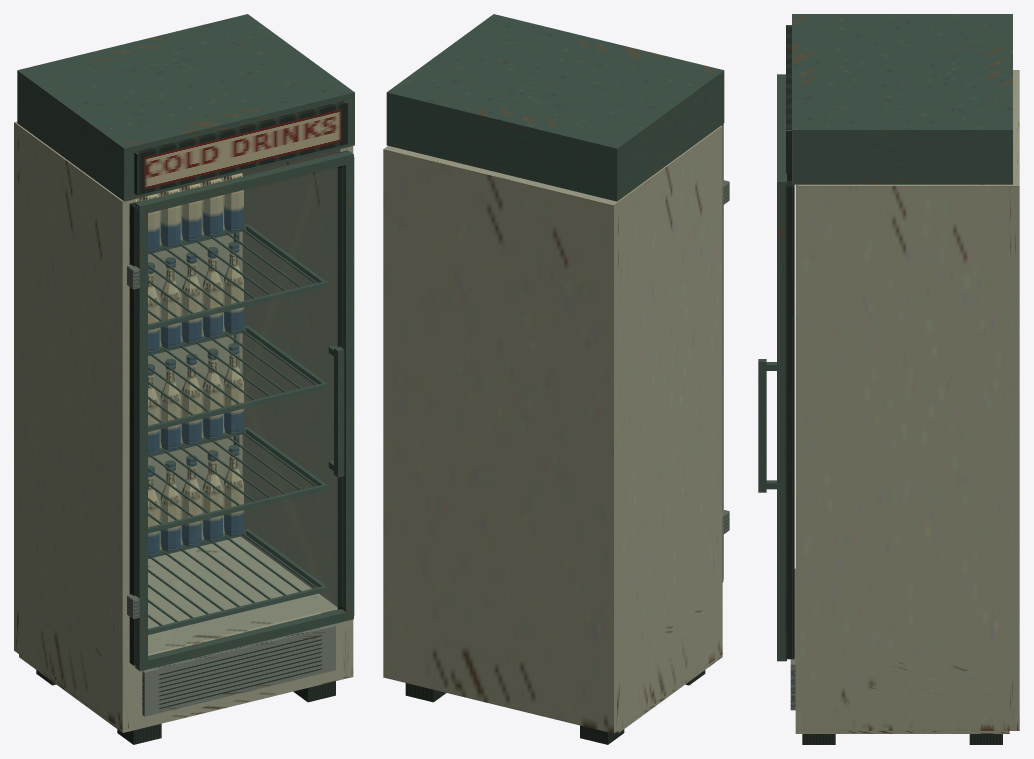
File: DrinksFridge.fbx
The picture shows the model from 3 angles, left to right: view 1: azimuth 30°, elevation 25°; view 2: azimuth 150°, elevation 25°; view 3: azimuth 270°, elevation 25°; orthographic projection. The views are drawn at different scales.
Visible parts, largest first — view 1: DrinksFridge_Body, DrinksFridge_Glass; view 2: DrinksFridge_Body; view 3: DrinksFridge_Body.
Boxes of the visible parts, left/top/right/bottom form: DrinksFridge_Body: left=14, top=14, right=354, bottom=744; DrinksFridge_Glass: left=148, top=168, right=342, bottom=653; DrinksFridge_Body: left=383, top=14, right=729, bottom=744; DrinksFridge_Body: left=758, top=14, right=1019, bottom=744.
Bounding box in the file's own units: 82 × 205 × 78.15.
